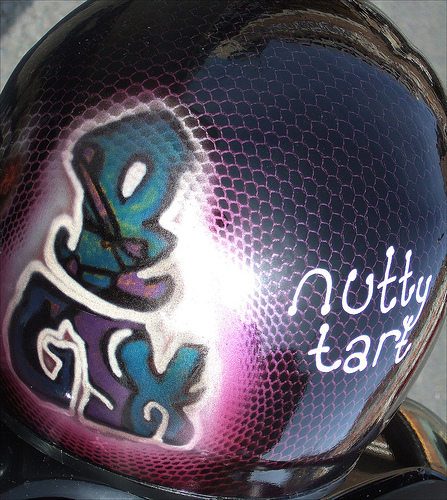helmet: (13, 14, 440, 465)
